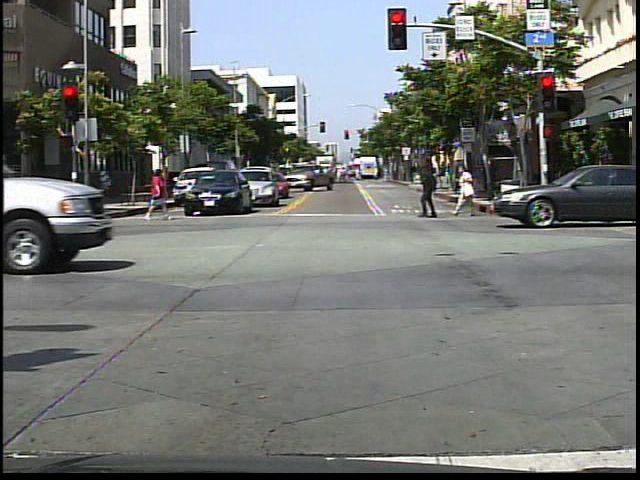person: (416, 157, 451, 221), (141, 165, 174, 225), (450, 158, 480, 222)
